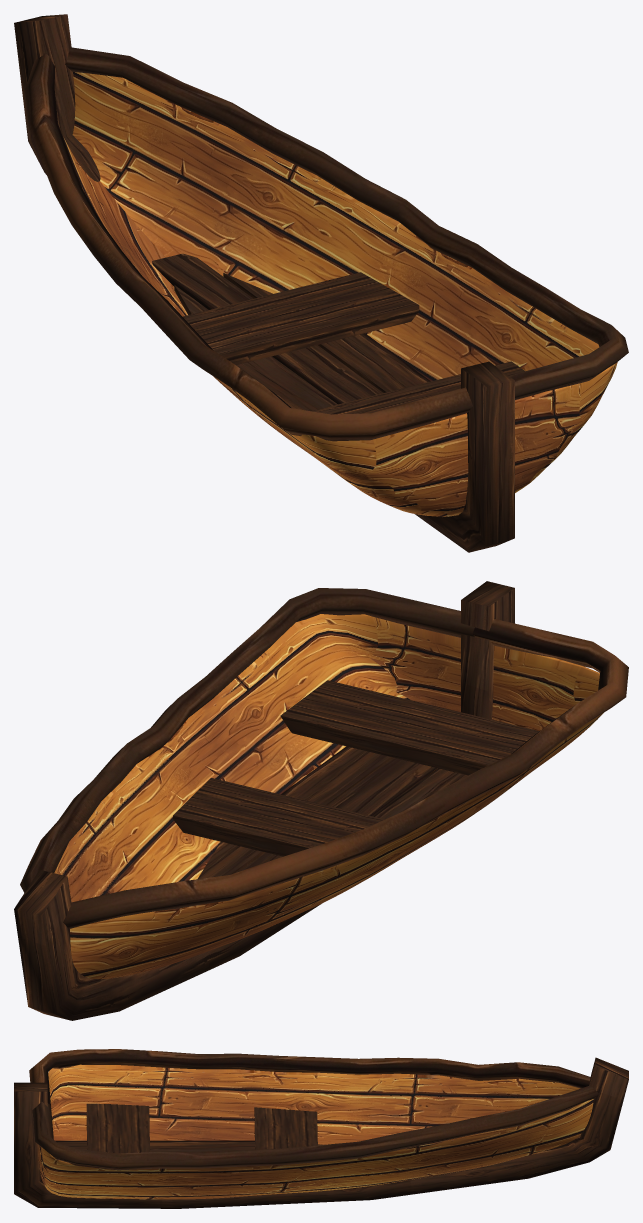
File: Boat.fbx
3 renders of one model, top to bottom at view 1: azimuth 30°, elevation 25°; view 2: azimuth 150°, elevation 25°; view 3: azimuth 270°, elevation 25°, orthographic. The views are drawn at different scales.
Parts seen in each view (by area): view 1: Rowboat_Hull; view 2: Rowboat_Hull; view 3: Rowboat_Hull.
Boxes of the visible parts, left/top/right/bottom form: Rowboat_Hull: left=14, top=14, right=628, bottom=552; Rowboat_Hull: left=14, top=581, right=628, bottom=1020; Rowboat_Hull: left=14, top=1049, right=628, bottom=1208.
Bounding box in the file's own units: 274 × 166 × 648.
